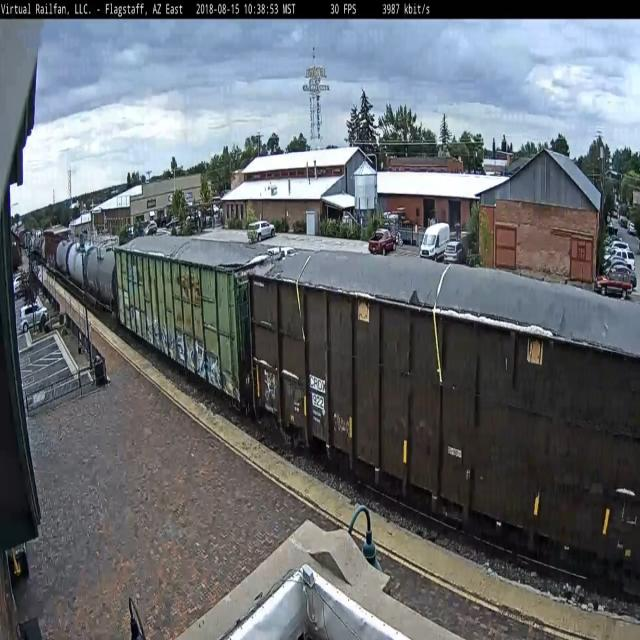gondola: (245, 236, 640, 614), (112, 227, 256, 402)
